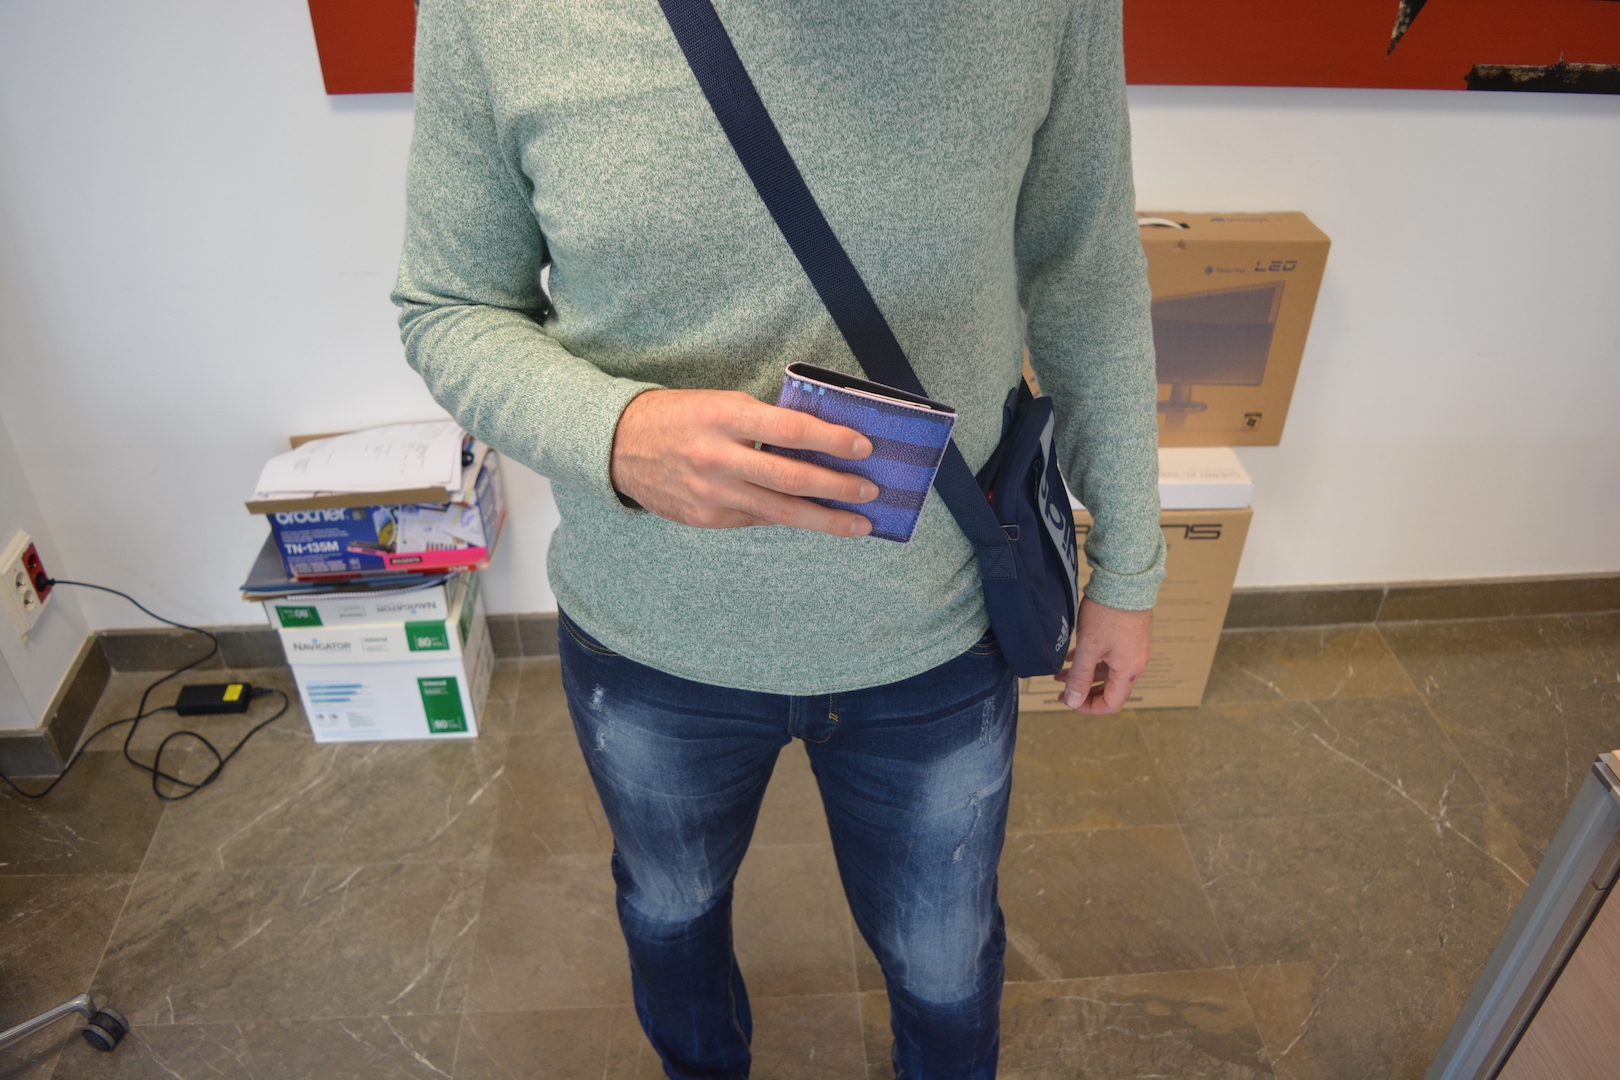monedero: (759, 360, 957, 545)
